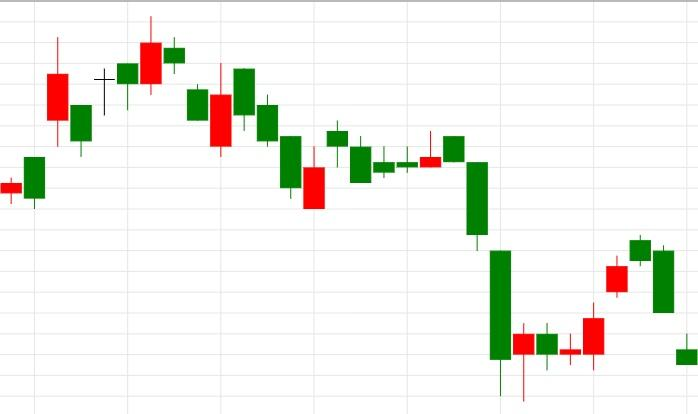hammer_rise: (442, 135, 536, 401)
three_black_crows_fall: (350, 129, 512, 396)
